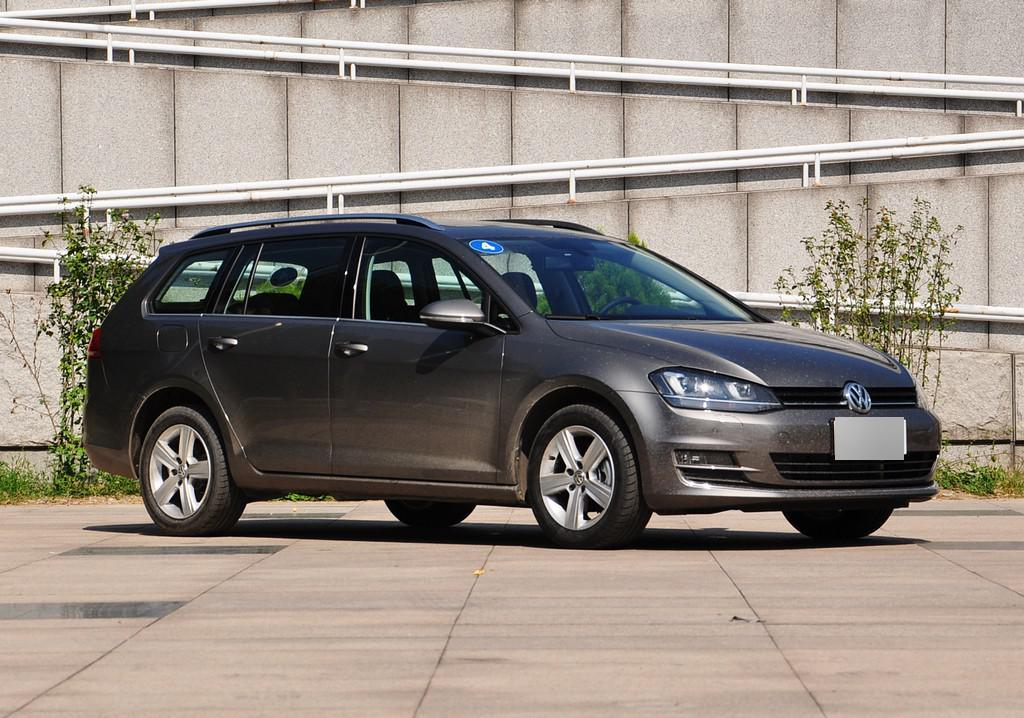Wagon: (80, 212, 944, 549)
